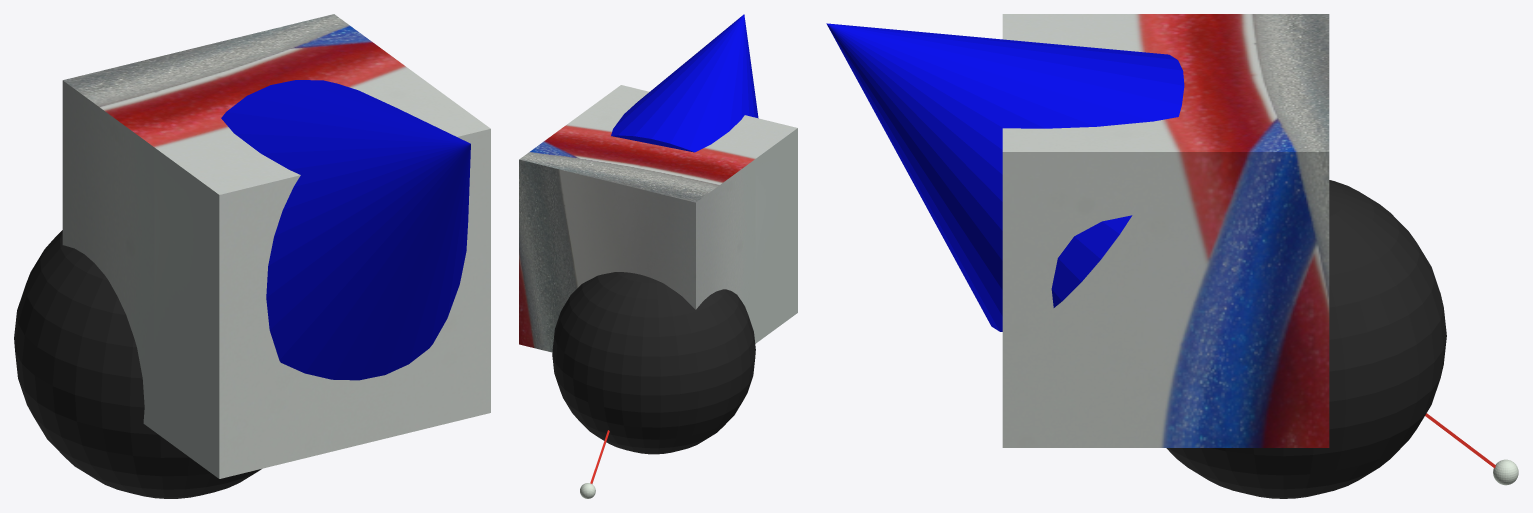
Rendered from satellite12.glb.
3 views of the same model, side by side, from view 1: azimuth 30°, elevation 25°; view 2: azimuth 150°, elevation 25°; view 3: azimuth 270°, elevation 25° (orthographic). The views are drawn at different scales.
Visible parts, largest first — view 1: Cube, Cone, Sphere; view 2: Cube, Sphere, Cone; view 3: Cube, Cone, Sphere.
Part boxes in pixels (x1,y1,x2,y2): Cube: (62,14,490,478); Cone: (221,80,470,380); Sphere: (14,230,261,498); Cube: (519,85,797,352); Sphere: (552,272,755,454); Cone: (611,14,758,152); Cube: (1002,14,1329,447); Cone: (826,23,1184,331); Sphere: (1166,180,1446,498).
Size of the model in its own units: 2.45 by 3.41 by 4.24.
5 materials, 1 textured.
